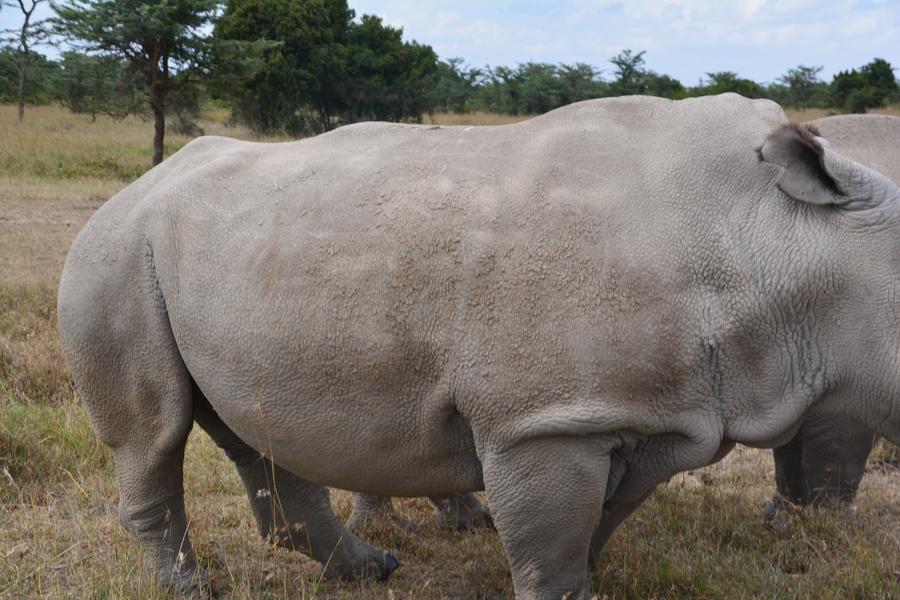rhino: (147, 94, 885, 537)
